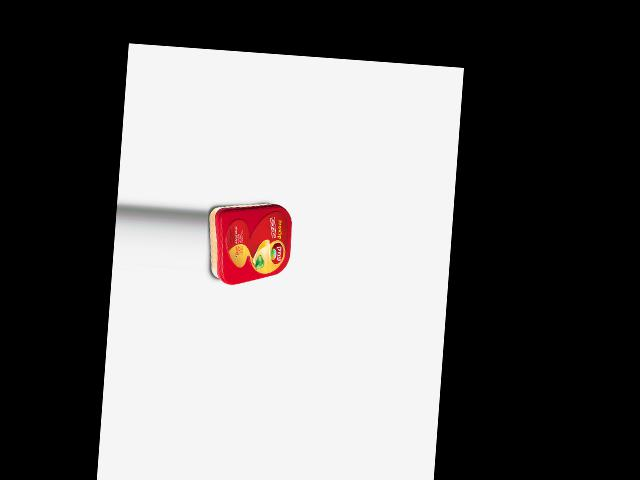cheese: (204, 199, 293, 289)
